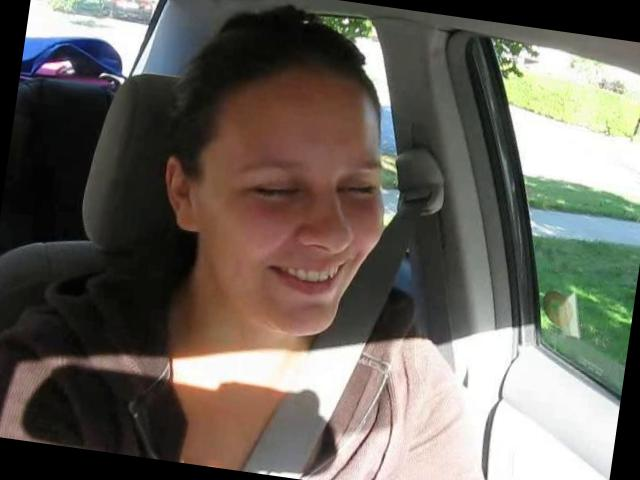eye_closed: (240, 170, 308, 213), (332, 174, 384, 209)
face: (191, 124, 400, 349)
